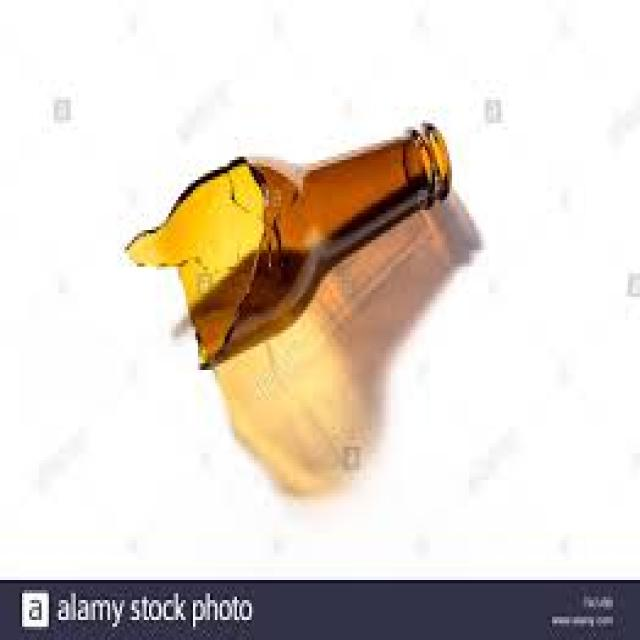glass: (122, 120, 450, 367)
